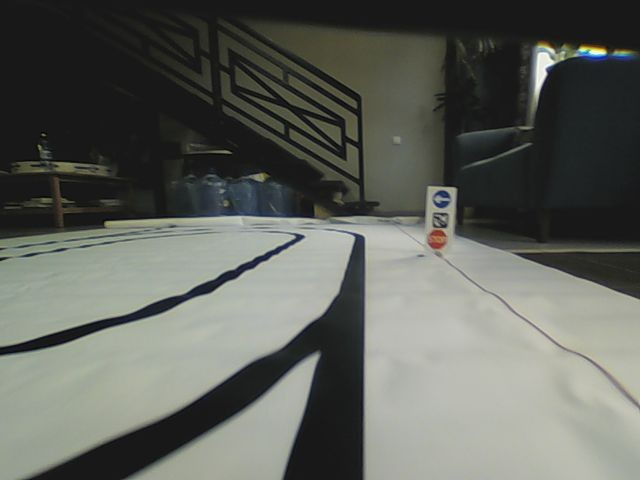Stop: (426, 227, 448, 250)
